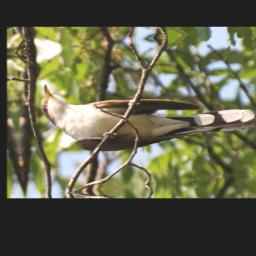Cuckoo: (37, 61, 256, 161)
